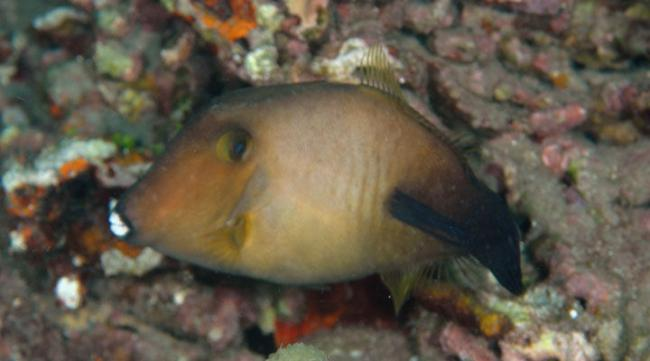fish: (115, 81, 525, 309)
